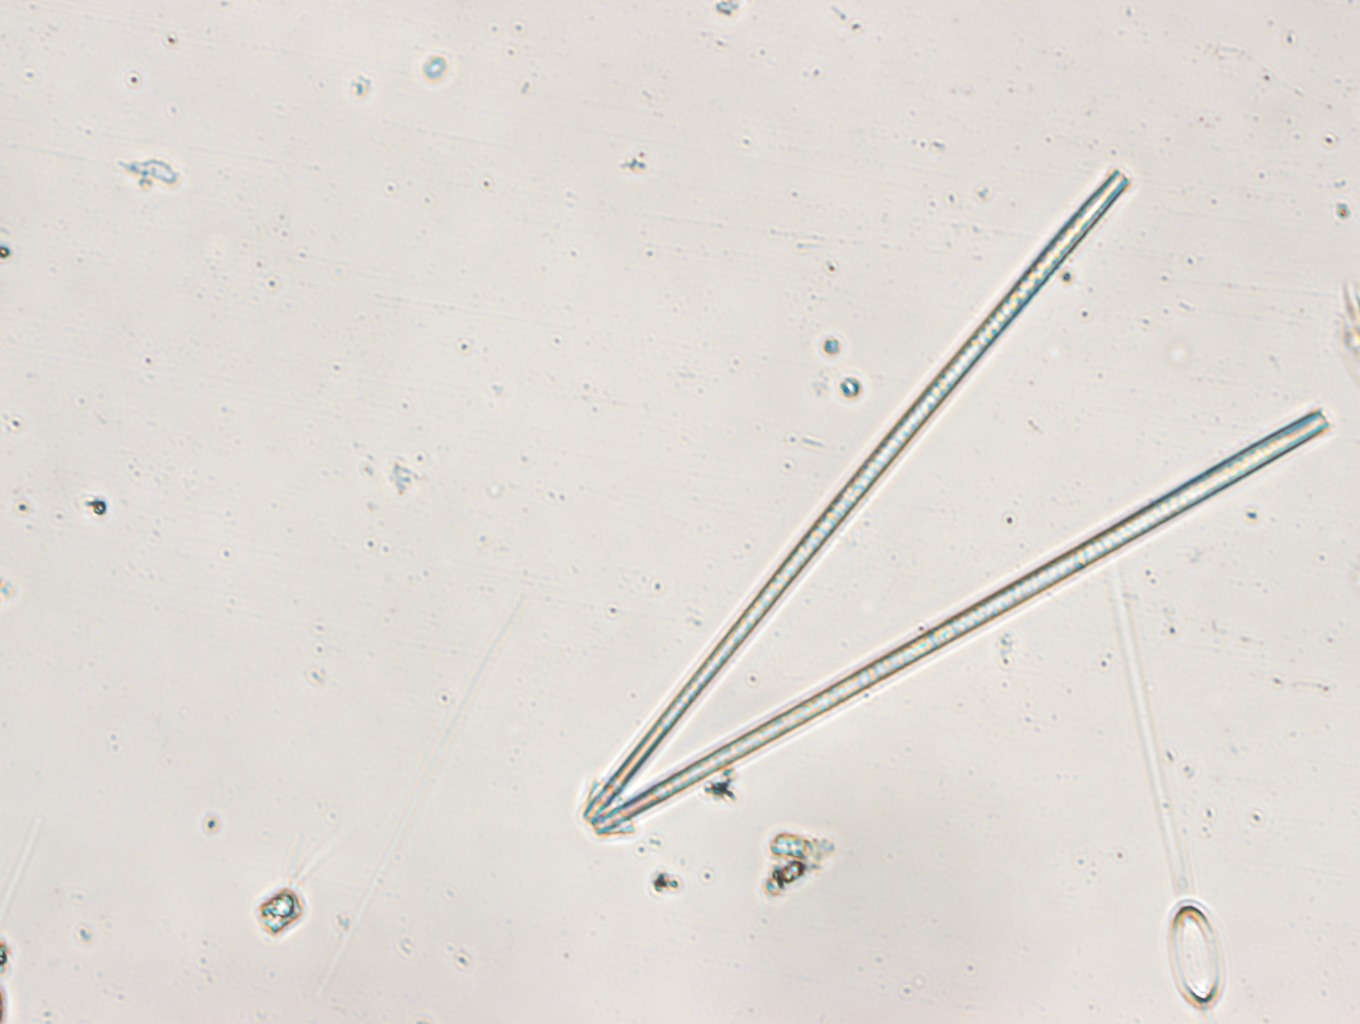thalassionema frauenfeldii: (574, 169, 1335, 838)
